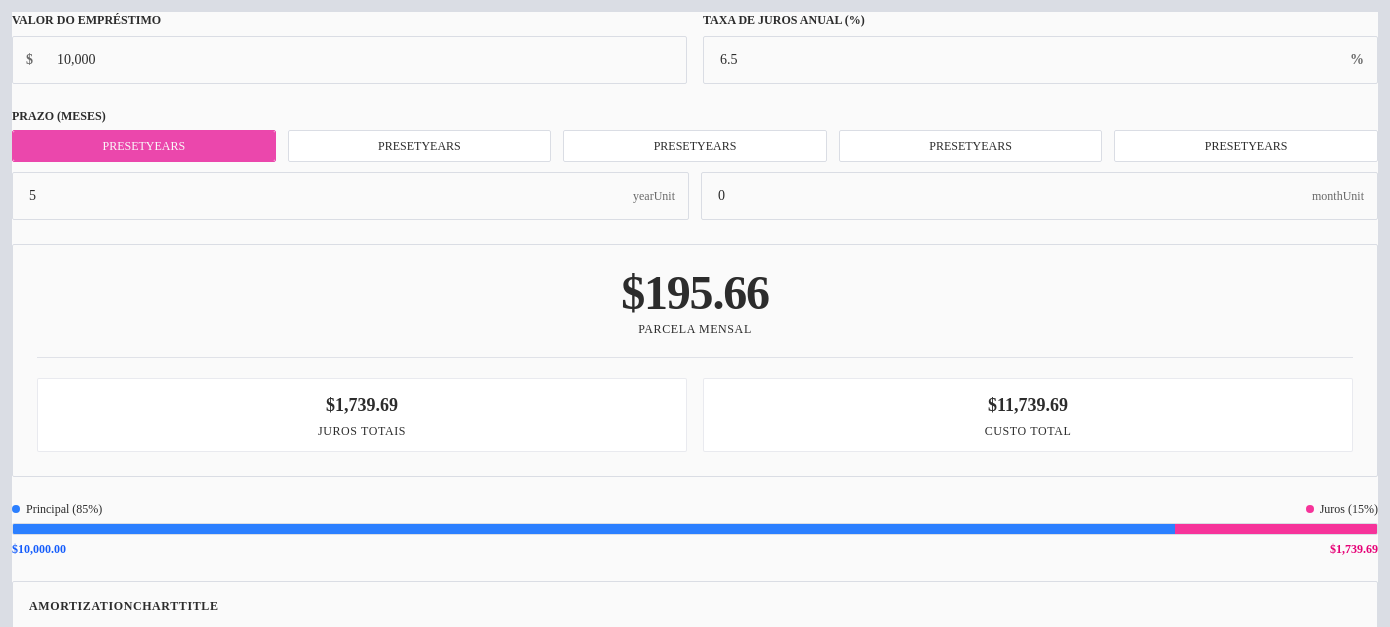
Test: Loan Calculator Integration › updates monthly payment dynamically when principal changes
The image size is (1390, 627).
Step 1. Replace the text in the field labelled "Valor do Empréstimo" with "20000" → x=350, y=60, box [12,36,687,84]
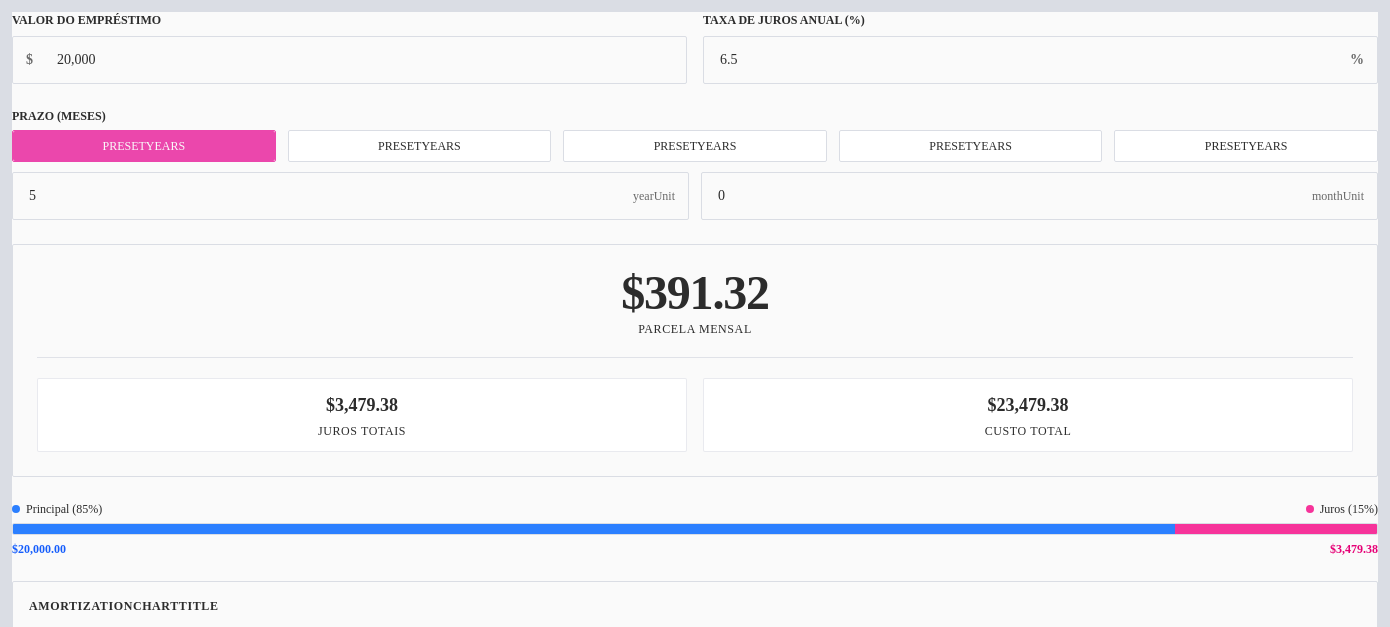
Expected: the text "$391.32" is shown, [621,266,769,319]
